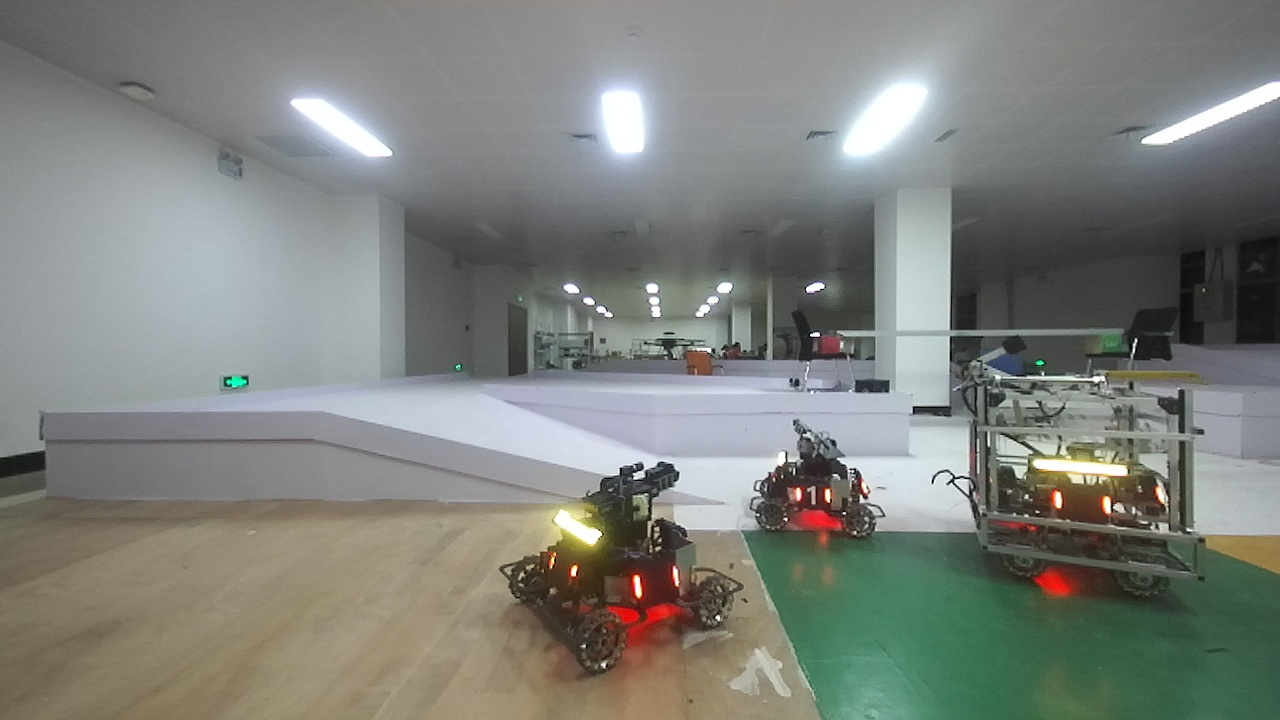car: (944, 349, 1226, 621), (505, 454, 738, 686), (752, 409, 885, 580)
